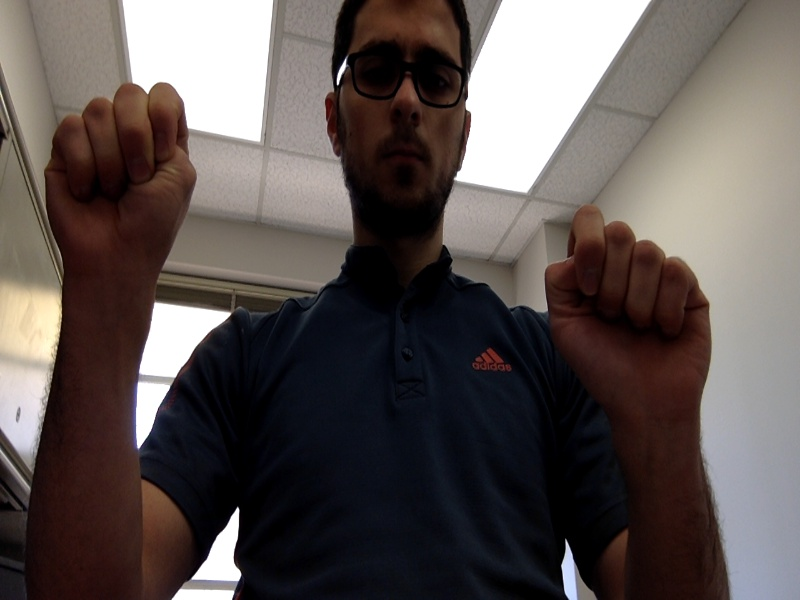0-hand: (545, 206, 710, 421), (47, 82, 195, 276)
